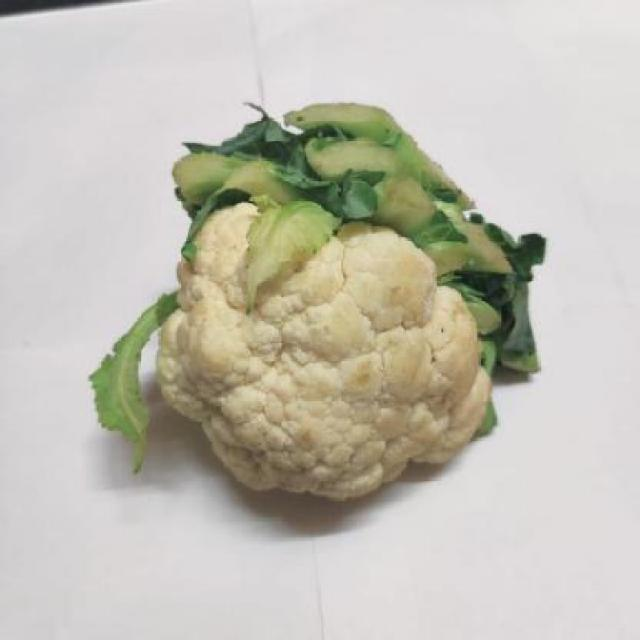Cauliflower: (96, 103, 538, 500)
